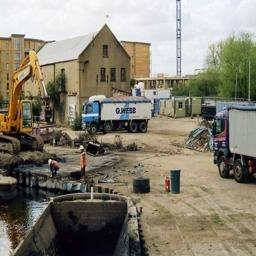hat: (78, 144, 87, 155), (47, 157, 54, 170)
vest: (77, 154, 97, 174), (51, 156, 63, 179)
